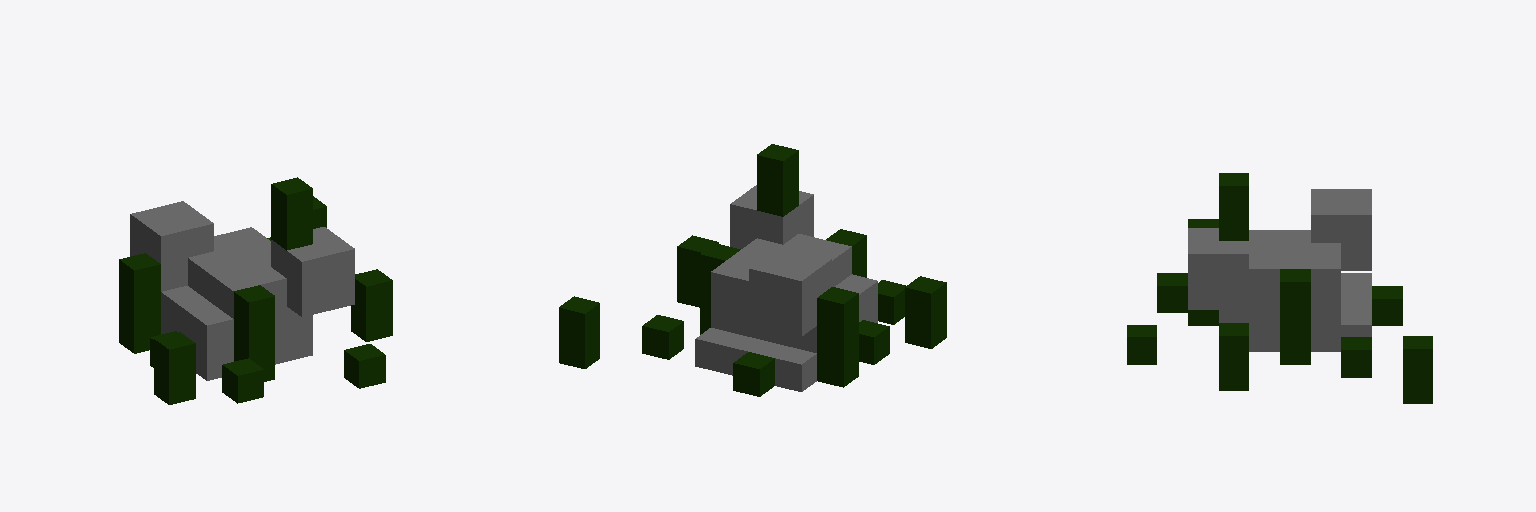
3 renders of one model, left to right at view 1: azimuth 30°, elevation 25°; view 2: azimuth 150°, elevation 25°; view 3: azimuth 270°, elevation 25°, orthographic.
Parts seen in each view (by area): view 1: object 1; view 2: object 1; view 3: object 1.
Boxes of the visible parts, box(x1,y1,x2,y2) form: object 1: box(119, 177, 392, 404); object 1: box(559, 144, 946, 396); object 1: box(1127, 173, 1432, 403).
Size of the model in its own units: 1 by 0.6 by 1.
Materials: 1 (1 with a texture image).